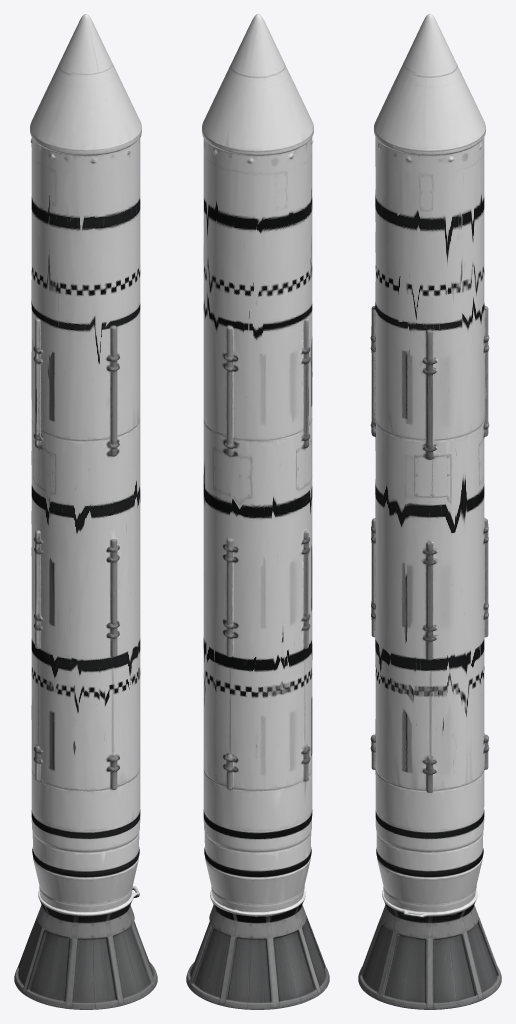
File: cohete_auxiliar_motor.obj
3 renders of one model, left to right at view 1: azimuth 30°, elevation 25°; view 2: azimuth 150°, elevation 25°; view 3: azimuth 270°, elevation 25°, orthographic.
Parts seen in each view (by area): view 1: propulsorC_Material.003; view 2: propulsorC_Material.003; view 3: propulsorC_Material.003.
Boxes of the visible parts, <box> form: propulsorC_Material.003: <box>14,14,157,1009</box>; propulsorC_Material.003: <box>186,14,329,1009</box>; propulsorC_Material.003: <box>358,14,501,1009</box>.
Size of the model in its own units: 0.7683 by 5.71 by 0.769.
1 material, 1 textured.
